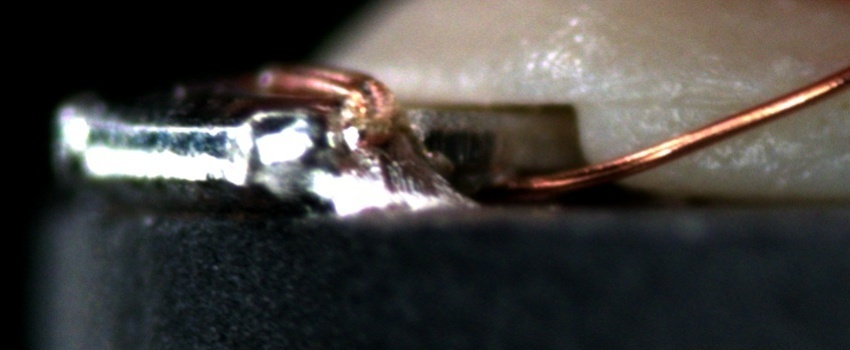DL: (593, 71, 758, 135)
TE: (254, 58, 407, 147)
